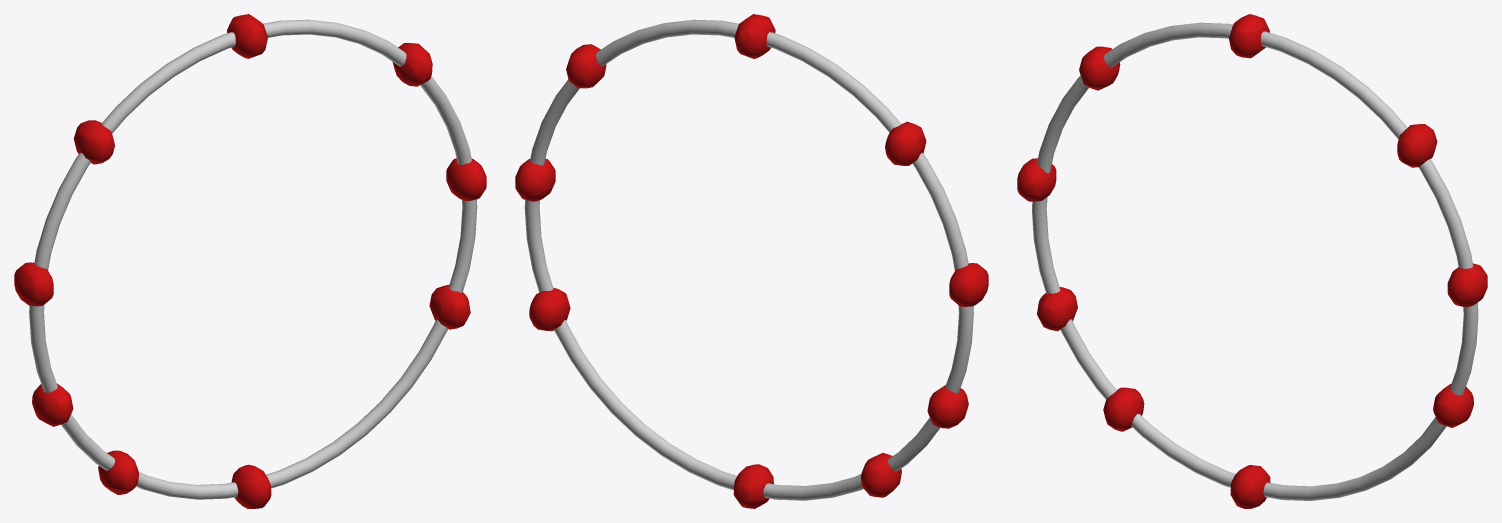
3 renders of one model, left to right at view 1: azimuth 30°, elevation 25°; view 2: azimuth 150°, elevation 25°; view 3: azimuth 330°, elevation 25°, orthographic.
Visible parts, largest first — view 1: Ring_Torus, Electron_Mball; view 2: Ring_Torus, Electron_Mball; view 3: Ring_Torus, Electron_Mball.
Part boxes in pixels (x1=…): Ring_Torus: x1=29, y1=19, x2=477, y2=499; Electron_Mball: x1=14, y1=14, x2=486, y2=508; Ring_Torus: x1=524, y1=19, x2=973, y2=500; Electron_Mball: x1=515, y1=14, x2=988, y2=508; Ring_Torus: x1=1032, y1=22, x2=1478, y2=500; Electron_Mball: x1=1017, y1=14, x2=1487, y2=508.
Bounding box in the file's own units: 2.56 × 2.59 × 0.2705.
